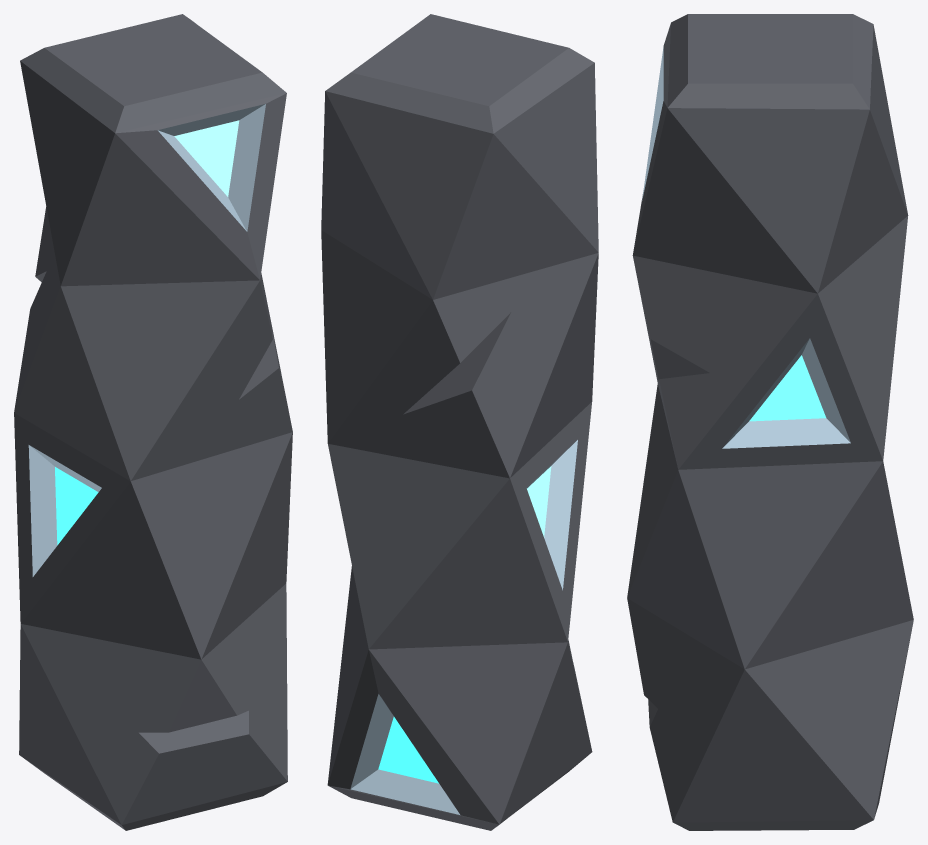
File: Pillar_Small.fbx
The picture shows the model from 3 angles, left to right: view 1: azimuth 30°, elevation 25°; view 2: azimuth 150°, elevation 25°; view 3: azimuth 270°, elevation 25°; orthographic projection. The views are drawn at different scales.
Parts seen in each view (by area): view 1: Pillar_Small; view 2: Pillar_Small; view 3: Pillar_Small.
Part boxes in pixels (box(x1,y1,x2,y2)): Pillar_Small: box(14, 14, 292, 830); Pillar_Small: box(321, 14, 598, 830); Pillar_Small: box(627, 14, 913, 830).
Bounding box in the file's own units: 1.39 × 4 × 1.39.
